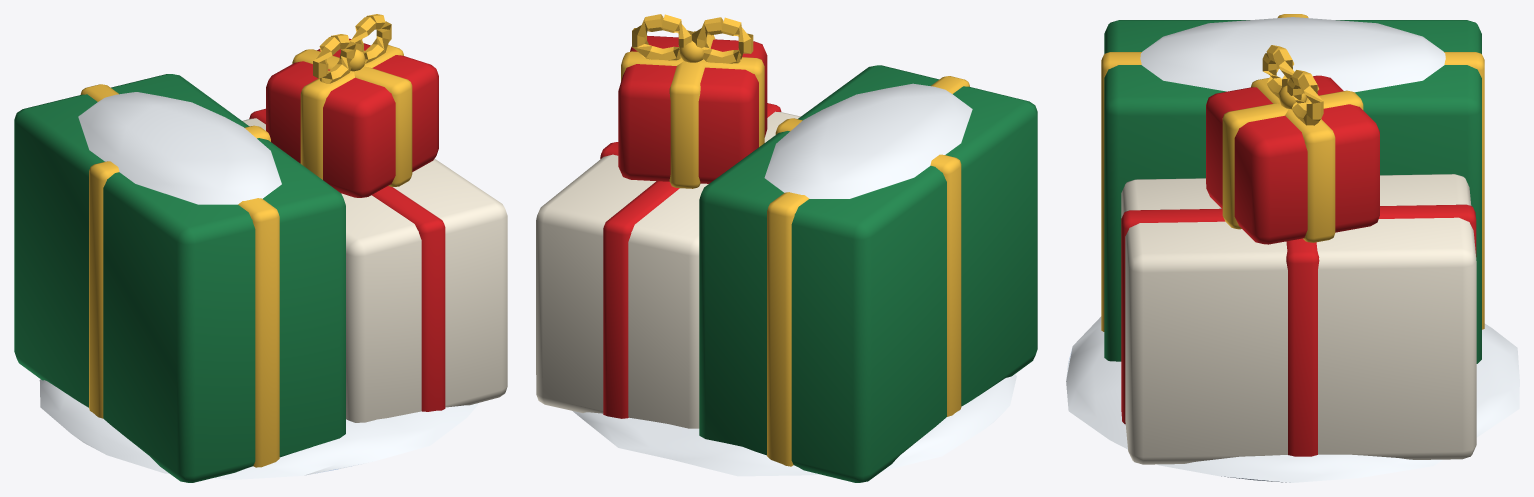
Rendered from GiftStackB.fbx.
3 renders of one model, left to right at view 1: azimuth 30°, elevation 25°; view 2: azimuth 150°, elevation 25°; view 3: azimuth 270°, elevation 25°, orthographic. The views are drawn at different scales.
Parts seen in each view (by area): view 1: GiftStackB; view 2: GiftStackB; view 3: GiftStackB.
Boxes of the visible parts, x1,y1,x2,y2 form: GiftStackB: (14, 14, 507, 482); GiftStackB: (536, 14, 1037, 482); GiftStackB: (1066, 14, 1519, 482).
Bounding box in the file's own units: 1.68 × 1.4 × 1.56.
Materials: 1 (1 with a texture image).
